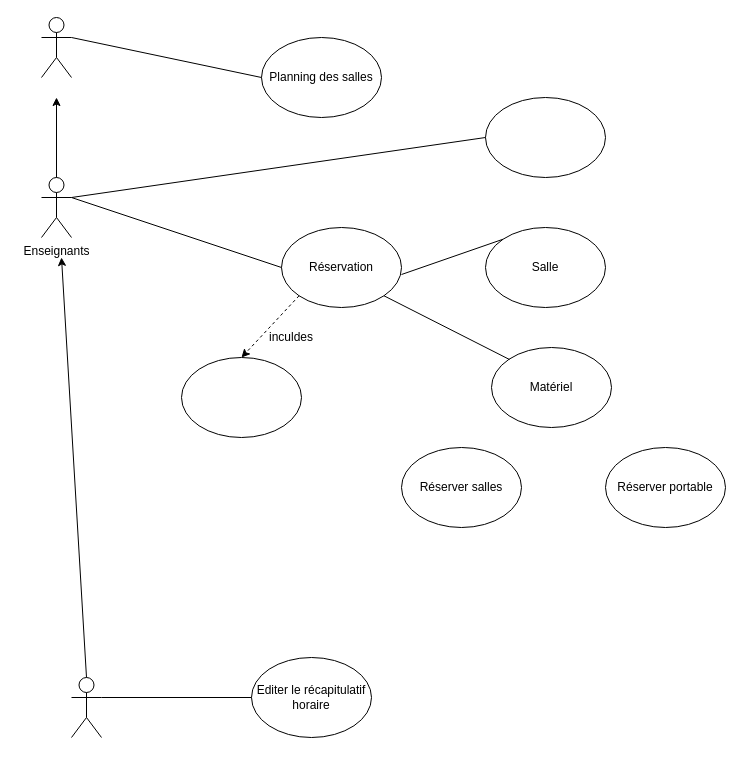
This 743x776 diagram has some shape labels left out. Each missing label, with the box of its shape:
Enseignants Responsable: (70, 676, 102, 738)
Etudiants: (40, 16, 72, 78)
Voir le récapitulatif horaire: (484, 96, 606, 178)
Vérification disponibilités: (180, 356, 302, 438)
